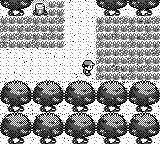captura: (96, 18, 160, 80), (1, 1, 65, 48)
main: (82, 61, 94, 75)
no-caminable: (1, 81, 159, 143), (96, 0, 160, 16), (1, 0, 32, 16), (32, 2, 48, 16)
